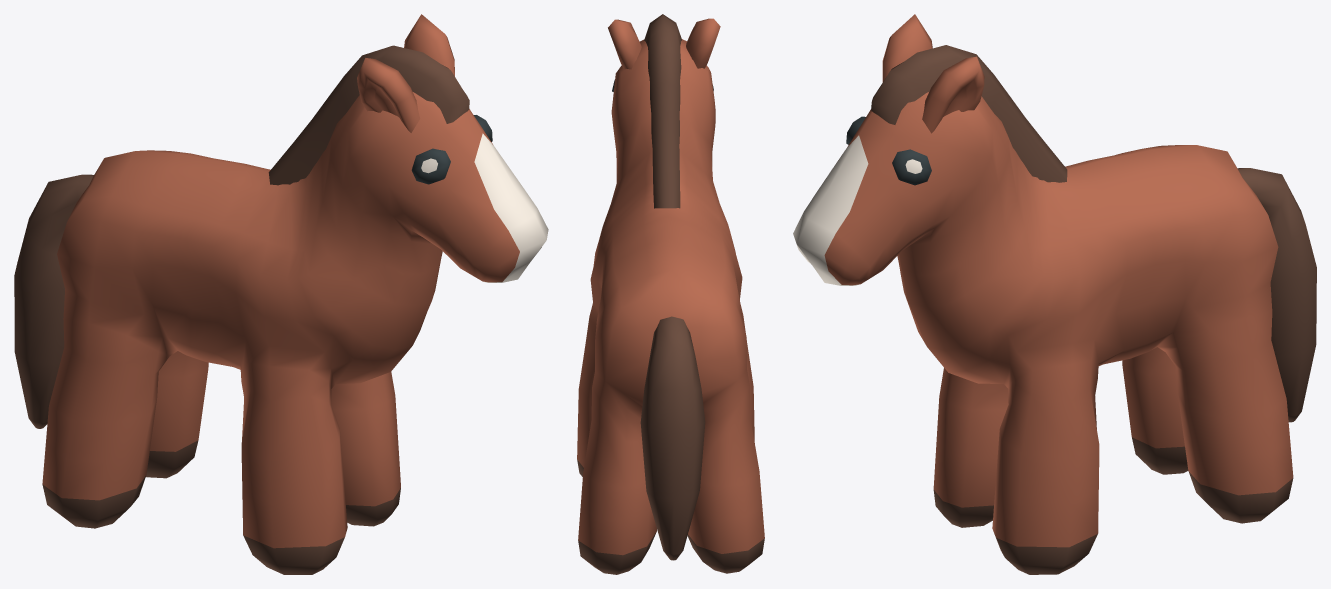
File: Horse.fbx
3 renders of one model, left to right at view 1: azimuth 30°, elevation 25°; view 2: azimuth 150°, elevation 25°; view 3: azimuth 270°, elevation 25°, orthographic. The views are drawn at different scales.
Parts seen in each view (by area): view 1: Horse; view 2: Horse; view 3: Horse.
Part boxes in pixels (x1=…): Horse: x1=14, y1=14, x2=548, y2=574; Horse: x1=577, y1=14, x2=764, y2=574; Horse: x1=793, y1=14, x2=1316, y2=574.
Bounding box in the file's own units: 3.94 × 6.09 × 5.54.
